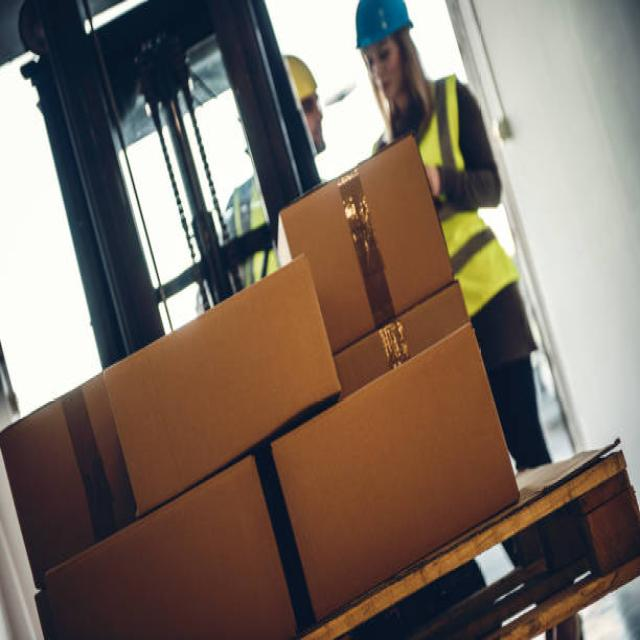Wooden-Pallets: (310, 441, 640, 640)
